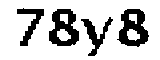7: (16, 7, 44, 49)
8: (49, 5, 80, 50), (120, 7, 150, 51)
y: (80, 15, 116, 60)
